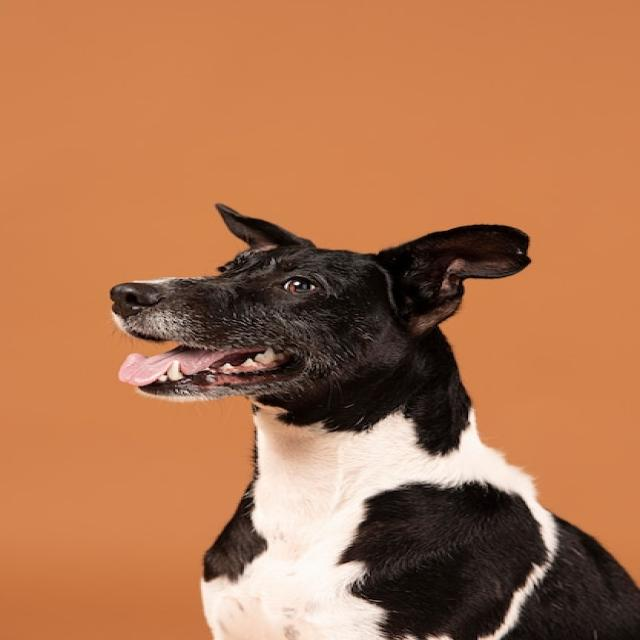Dog: (107, 202, 640, 640)
